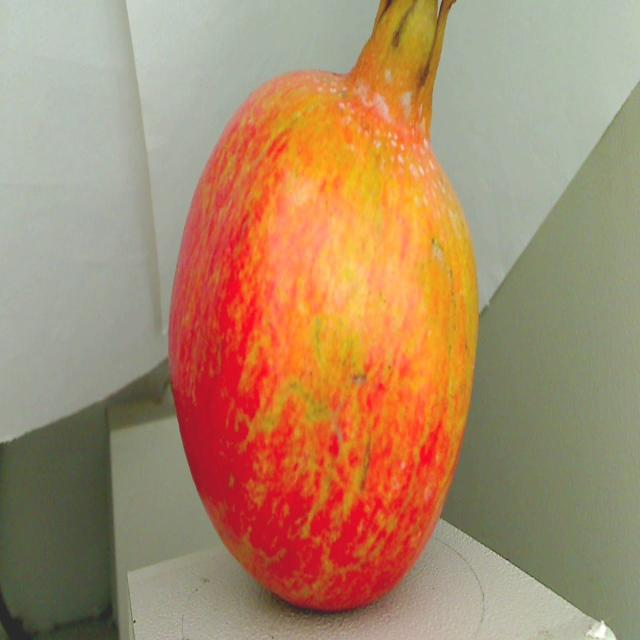pomegranate: (150, 0, 506, 640)
